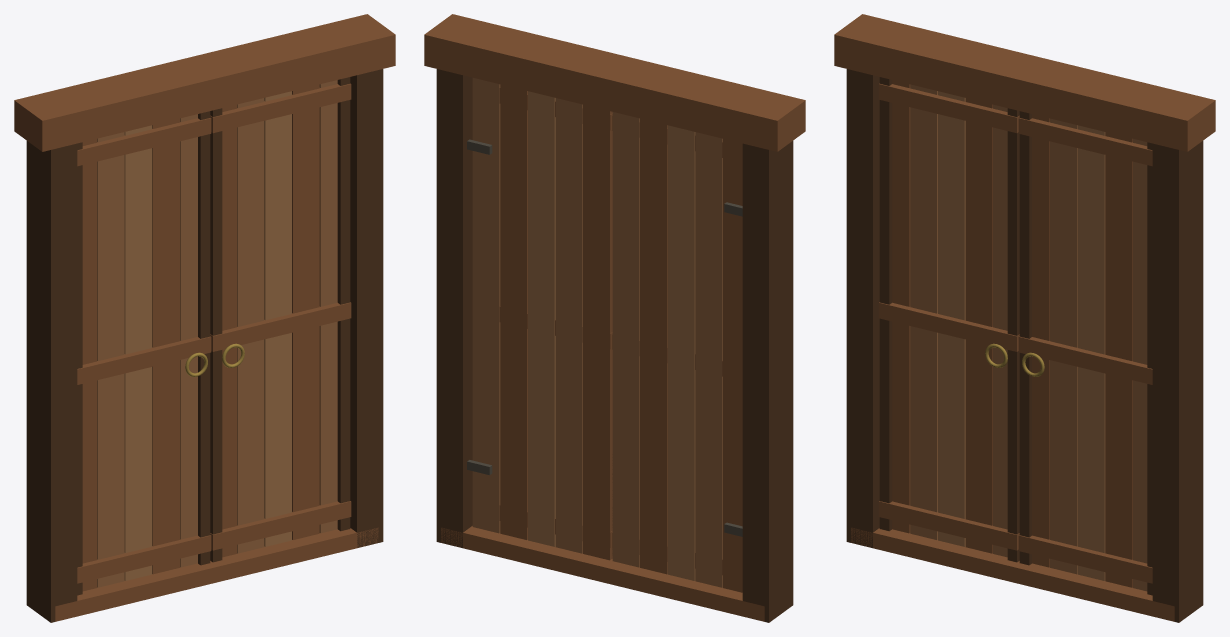
Rendered from LV_CUA_GO_01.glb.
3 renders of one model, left to right at view 1: azimuth 30°, elevation 25°; view 2: azimuth 150°, elevation 25°; view 3: azimuth 330°, elevation 25°, orthographic.
Visible parts, largest first — view 1: LV_CUA_GO_01-surface-50351f, LV_CUA_GO_01-surface-825331, door-right-hinge-surface-825331, door-left-hinge-surface-825331, door-right-hinge-surface-936540, door-left-hinge-surface-936540, door-left-hinge-surface-9d7048, door-right-hinge-surface-9d7048, door-right-hinge-surface-50351f, door-left-hinge-surface-50351f; view 2: LV_CUA_GO_01-surface-50351f, LV_CUA_GO_01-surface-825331, door-right-hinge-surface-825331, door-right-hinge-surface-936540, door-left-hinge-surface-936540, door-left-hinge-surface-825331, door-left-hinge-surface-9d7048, door-right-hinge-surface-9d7048, door-right-hinge-surface-514b40; view 3: LV_CUA_GO_01-surface-50351f, LV_CUA_GO_01-surface-825331, door-left-hinge-surface-825331, door-right-hinge-surface-825331, door-right-hinge-surface-936540, door-left-hinge-surface-936540, door-right-hinge-surface-9d7048, door-left-hinge-surface-9d7048, door-left-hinge-surface-50351f, door-right-hinge-surface-50351f.
Part boxes in pixels (box(x1,y1,x2,y2)): LV_CUA_GO_01-surface-50351f: box(26, 69, 383, 622); LV_CUA_GO_01-surface-825331: box(14, 14, 395, 621); door-right-hinge-surface-825331: box(210, 83, 351, 557); door-left-hinge-surface-825331: box(77, 118, 211, 591); door-right-hinge-surface-936540: box(237, 80, 337, 553); door-left-hinge-surface-936540: box(97, 114, 197, 587); door-left-hinge-surface-9d7048: box(124, 125, 152, 580); door-right-hinge-surface-9d7048: box(264, 91, 291, 546); door-right-hinge-surface-50351f: box(210, 77, 350, 562); door-left-hinge-surface-50351f: box(77, 111, 210, 595); LV_CUA_GO_01-surface-50351f: box(436, 69, 793, 622); LV_CUA_GO_01-surface-825331: box(424, 14, 805, 621); door-right-hinge-surface-825331: box(472, 81, 612, 560); door-right-hinge-surface-936540: box(472, 78, 582, 553); door-left-hinge-surface-936540: box(612, 112, 722, 587); door-left-hinge-surface-825331: box(612, 115, 742, 592); door-left-hinge-surface-9d7048: box(667, 125, 695, 580); door-right-hinge-surface-9d7048: box(528, 91, 555, 546); door-right-hinge-surface-514b40: box(467, 139, 492, 475); LV_CUA_GO_01-surface-50351f: box(846, 69, 1203, 622); LV_CUA_GO_01-surface-825331: box(834, 14, 1215, 621); door-left-hinge-surface-825331: box(878, 80, 1019, 553); door-right-hinge-surface-825331: box(1018, 114, 1152, 587); door-right-hinge-surface-936540: box(1050, 118, 1147, 591); door-left-hinge-surface-936540: box(910, 84, 1007, 557); door-right-hinge-surface-9d7048: box(1077, 125, 1105, 580); door-left-hinge-surface-9d7048: box(938, 91, 965, 546); door-left-hinge-surface-50351f: box(879, 77, 1019, 562); door-right-hinge-surface-50351f: box(1019, 111, 1152, 595).
Size of the model in its own units: 2.02 by 2.77 by 0.28.
